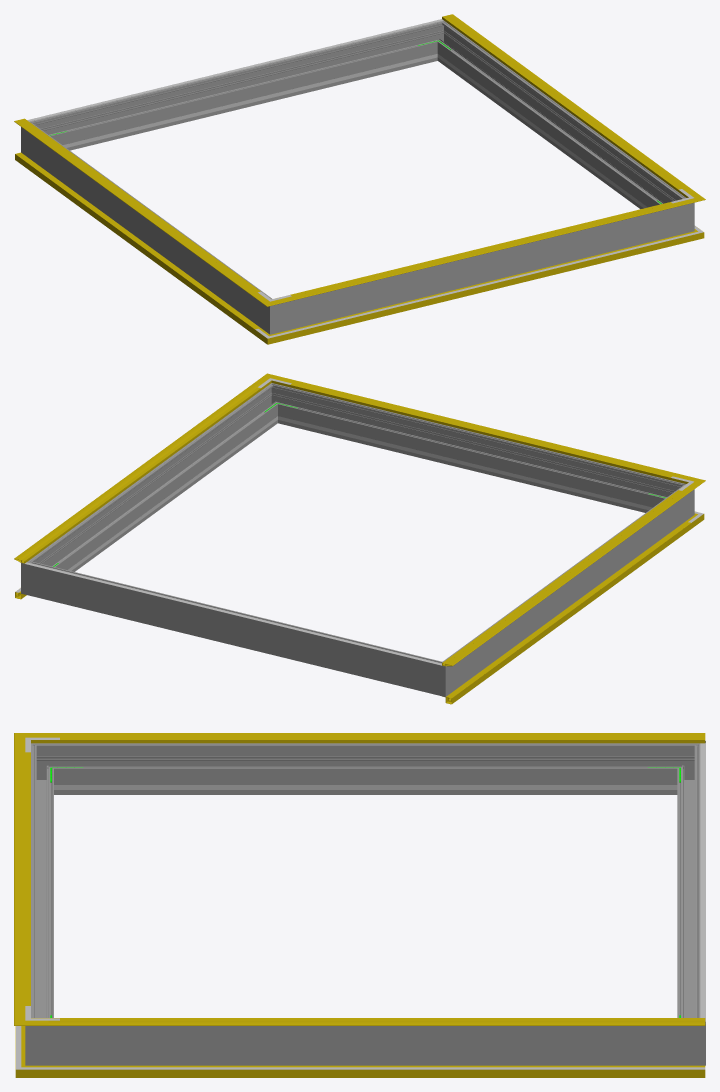
The picture shows the model from 3 angles, top to bottom: view 1: azimuth 30°, elevation 25°; view 2: azimuth 150°, elevation 25°; view 3: azimuth 270°, elevation 25°; orthographic projection. The views are drawn at different scales.
Visible parts, largest first — view 1: 3DGeom-276, 3DGeom-298, 3DGeom-297, 3DGeom-268, 3DGeom-11, 3DGeom-145, 3DGeom-6, 3DGeom-141, 3DGeom-147, 3DGeom-244, 3DGeom-220, 3DGeom-20 (+8 smaller); view 2: 3DGeom-298, 3DGeom-276, 3DGeom-297, 3DGeom-268, 3DGeom-141, 3DGeom-145, 3DGeom-6, 3DGeom-147, 3DGeom-239, 3DGeom-278, 3DGeom-220, 3DGeom-158 (+6 smaller); view 3: 3DGeom-268, 3DGeom-297, 3DGeom-16, 3DGeom-147, 3DGeom-276, 3DGeom-298, 3DGeom-145, 3DGeom-141, 3DGeom-232, 3DGeom-18, 3DGeom-152, 3DGeom-154 (+6 smaller).
Boxes of the visible parts, left/top/right/bottom form: 3DGeom-276: left=45, top=25, right=433, bottom=150; 3DGeom-298: left=292, top=208, right=672, bottom=329; 3DGeom-297: left=440, top=28, right=678, bottom=209; 3DGeom-268: left=33, top=129, right=264, bottom=324; 3DGeom-11: left=286, top=235, right=682, bottom=339; 3DGeom-145: left=442, top=14, right=692, bottom=194; 3DGeom-6: left=15, top=152, right=260, bottom=335; 3DGeom-141: left=285, top=201, right=683, bottom=301; 3DGeom-147: left=14, top=119, right=261, bottom=297; 3DGeom-244: left=71, top=59, right=416, bottom=146; 3DGeom-220: left=27, top=19, right=443, bottom=121; 3DGeom-20: left=288, top=236, right=681, bottom=333; 3DGeom-298: left=281, top=387, right=670, bottom=512; 3DGeom-276: left=42, top=565, right=427, bottom=691; 3DGeom-297: left=37, top=390, right=275, bottom=571; 3DGeom-268: left=451, top=491, right=681, bottom=687; 3DGeom-141: left=283, top=379, right=683, bottom=481; 3DGeom-145: left=14, top=382, right=265, bottom=563; 3DGeom-6: left=442, top=521, right=691, bottom=704; 3DGeom-147: left=442, top=488, right=692, bottom=666; 3DGeom-239: left=299, top=421, right=644, bottom=508; 3DGeom-278: left=423, top=655, right=458, bottom=696; 3DGeom-220: left=25, top=562, right=441, bottom=665; 3DGeom-158: left=290, top=383, right=672, bottom=477; 3DGeom-268: left=59, top=743, right=671, bottom=794; 3DGeom-297: left=59, top=1026, right=671, bottom=1065; 3DGeom-16: left=50, top=1065, right=705, bottom=1077; 3DGeom-147: left=48, top=733, right=705, bottom=743; 3DGeom-276: left=677, top=755, right=700, bottom=1017; 3DGeom-298: left=31, top=755, right=53, bottom=1017; 3DGeom-145: left=48, top=1018, right=705, bottom=1025; 3DGeom-141: left=14, top=747, right=25, bottom=1010; 3DGeom-232: left=87, top=785, right=643, bottom=789; 3DGeom-18: left=50, top=1067, right=705, bottom=1069; 3DGeom-152: left=60, top=1018, right=705, bottom=1020; 3DGeom-154: left=60, top=737, right=705, bottom=739.
Size of the model in its own units: 3.05 by 0.2596 by 3.05.
